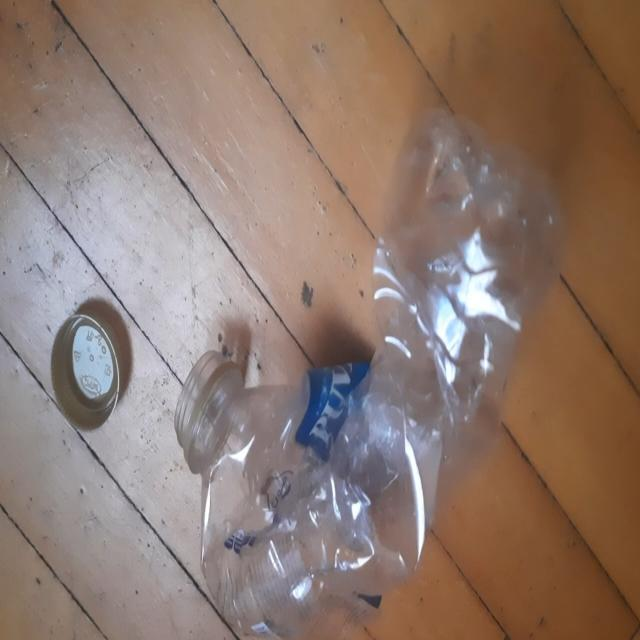Plastic: (176, 106, 564, 636)
